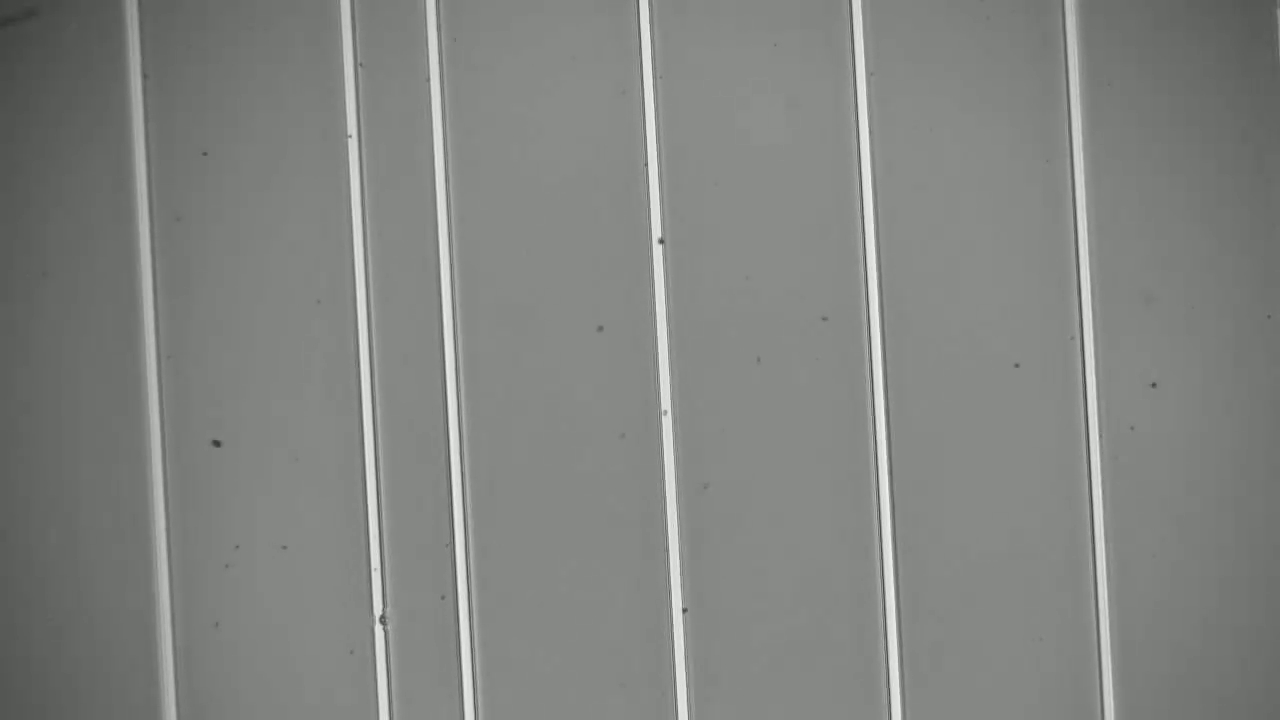stains_enbedded: (365, 605, 393, 638)
